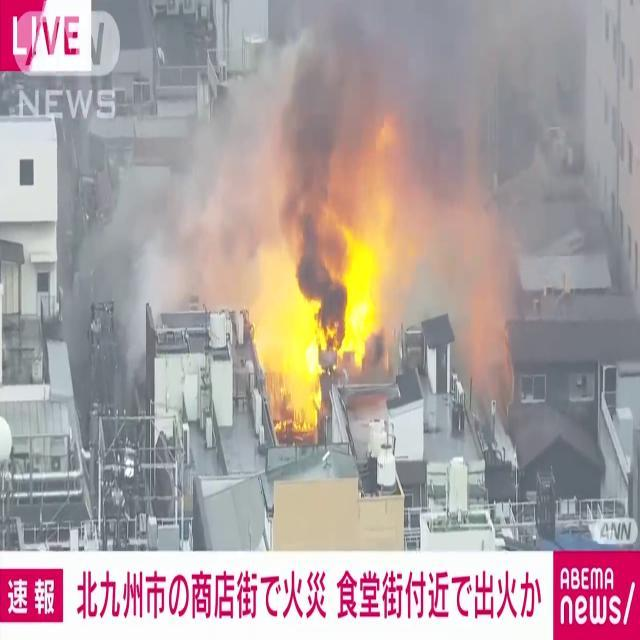Fire: (235, 247, 328, 423), (329, 216, 405, 370)
Smoke: (198, 0, 632, 262)
